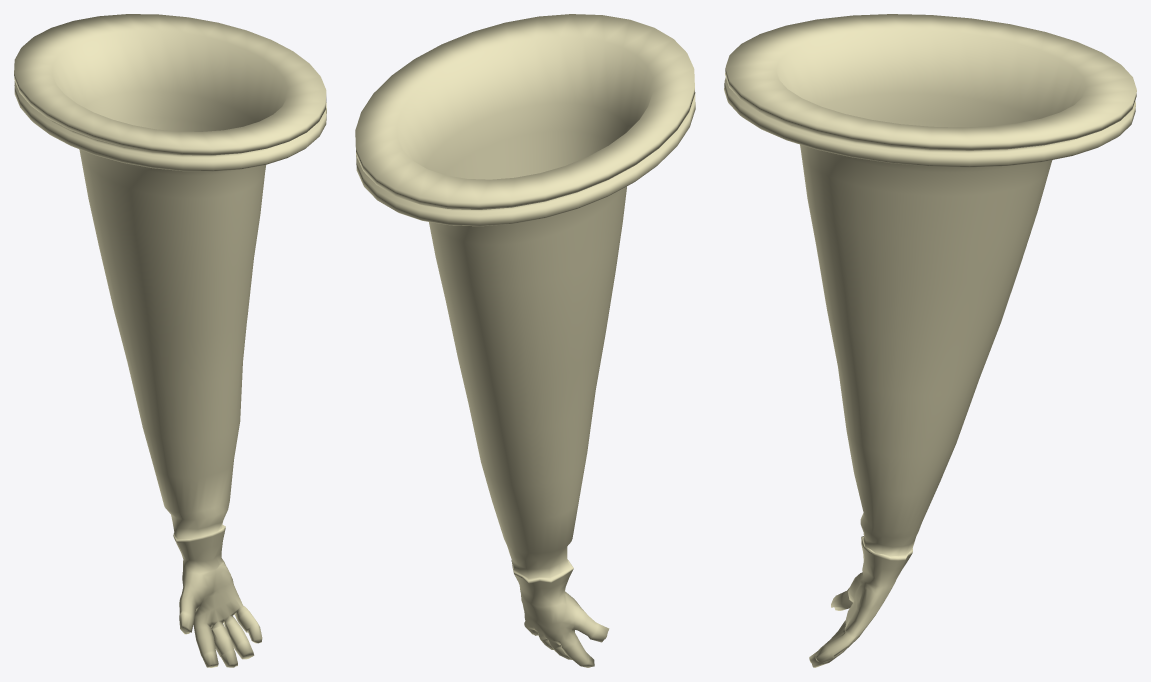
The model's file is 1_Glove animated opened.fbx.
3 renders of one model, left to right at view 1: azimuth 30°, elevation 25°; view 2: azimuth 150°, elevation 25°; view 3: azimuth 270°, elevation 25°, orthographic. The views are drawn at different scales.
Parts seen in each view (by area): view 1: glove animated; view 2: glove animated; view 3: glove animated.
Boxes of the visible parts, box(x1,y1,x2,y2) form: glove animated: box(14, 14, 326, 667); glove animated: box(355, 14, 695, 667); glove animated: box(724, 14, 1136, 667).
Bounding box in the file's own units: 30.76 × 66.82 × 42.13.
